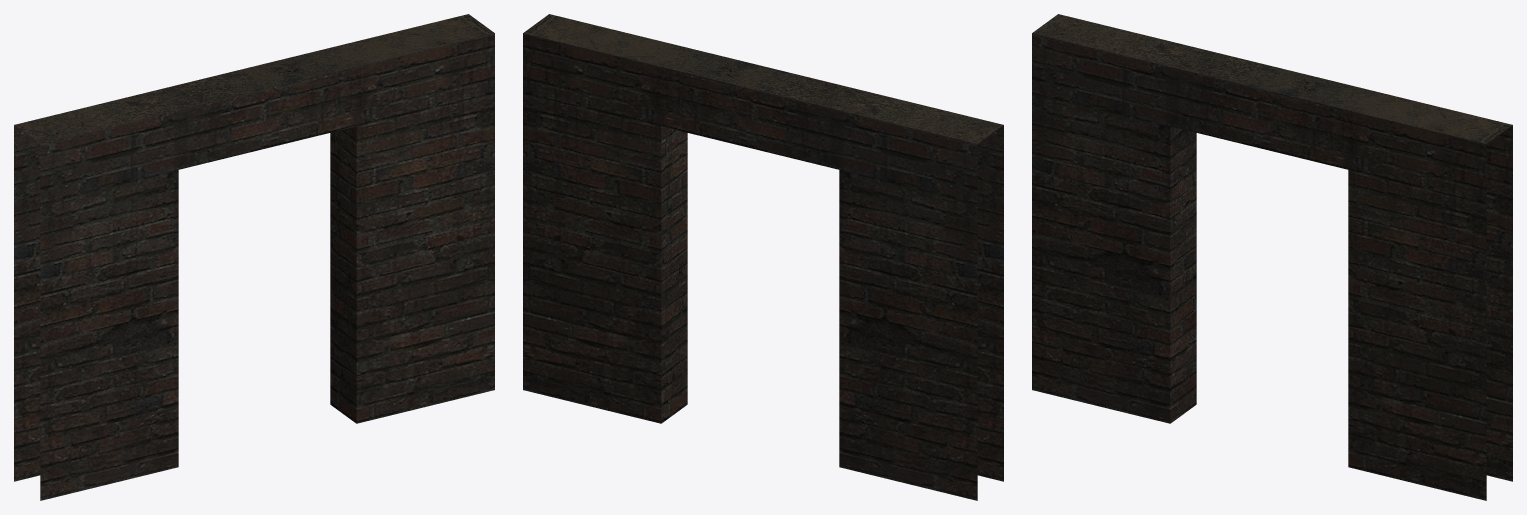
File: doorway_hs_1_wide.dae
3 renders of one model, left to right at view 1: azimuth 30°, elevation 25°; view 2: azimuth 150°, elevation 25°; view 3: azimuth 330°, elevation 25°, orthographic.
Visible parts, largest first — view 1: doorway_hs_1_wide; view 2: doorway_hs_1_wide; view 3: doorway_hs_1_wide.
Boxes of the visible parts, <box> form: doorway_hs_1_wide: <box>14,14,494,500</box>; doorway_hs_1_wide: <box>523,14,1003,500</box>; doorway_hs_1_wide: <box>1032,14,1512,500</box>.
Size of the model in its own units: 4 by 0.4 by 3.
Materials: 2 (2 with a texture image).
